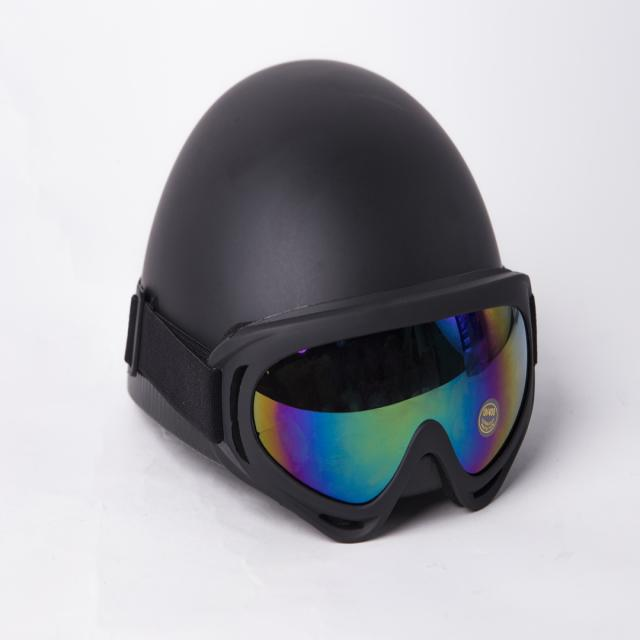Helmet: (122, 54, 542, 545)
